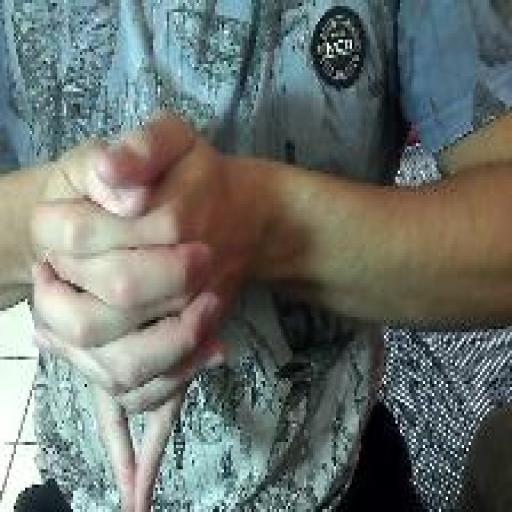Tatsu -dragon-: (29, 105, 232, 511)
